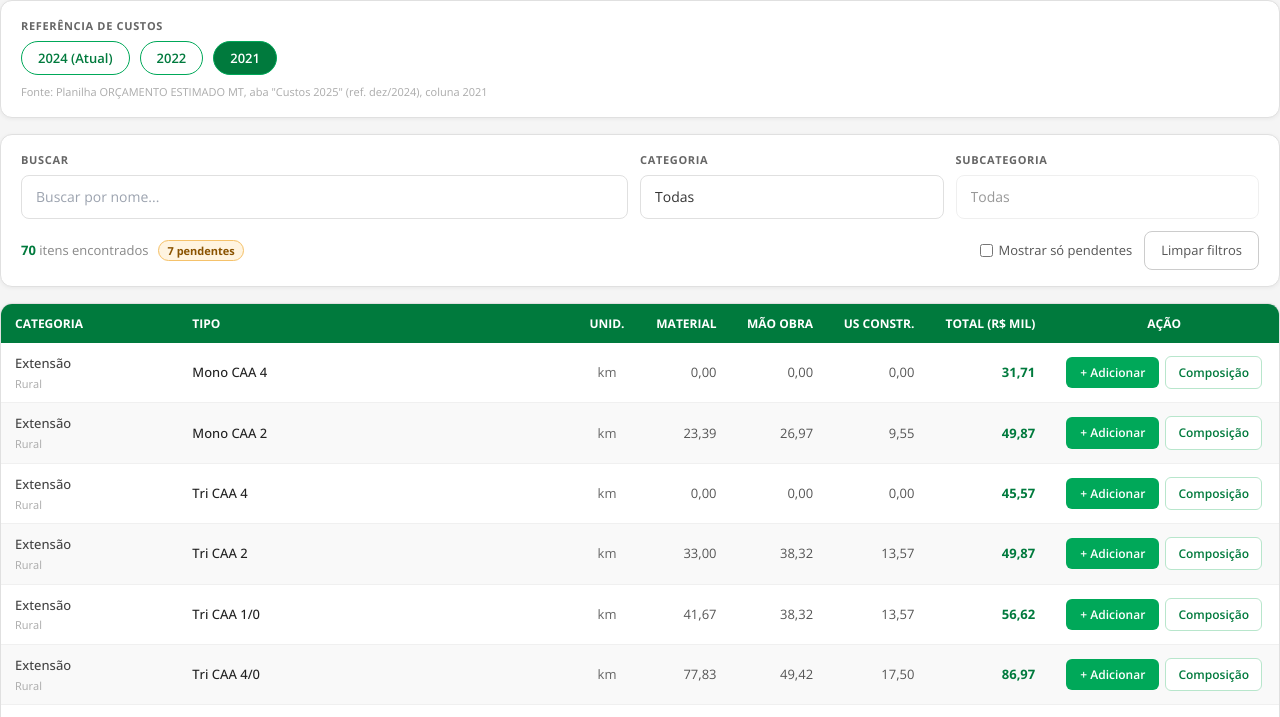
Scenario: Etapa 5 — botão na Biblioteca › o diálogo segue a referência selecionada
Click the button "Composição" in the row of "Mono CAA 4".
click(1214, 373)  # box [1165,356,1262,389]
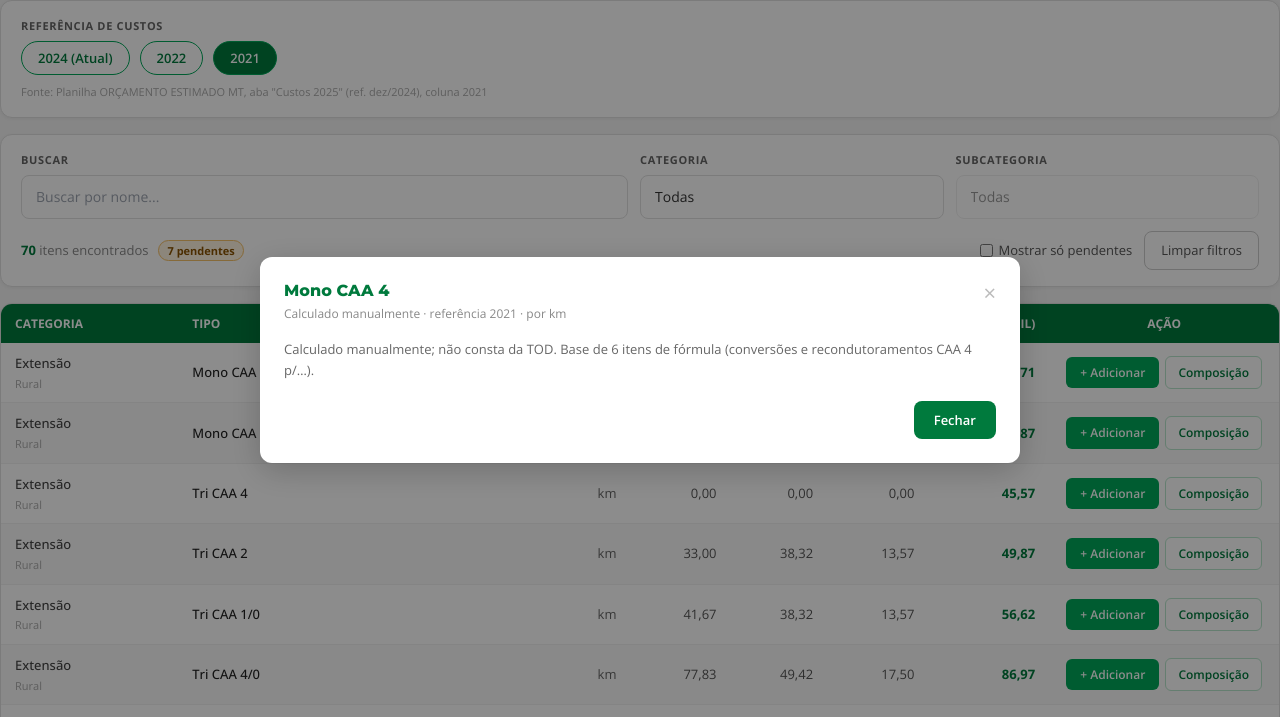
Result: the text "Calculado manualmente · referência 2021 · por km" is shown at [284,304,566,323]
